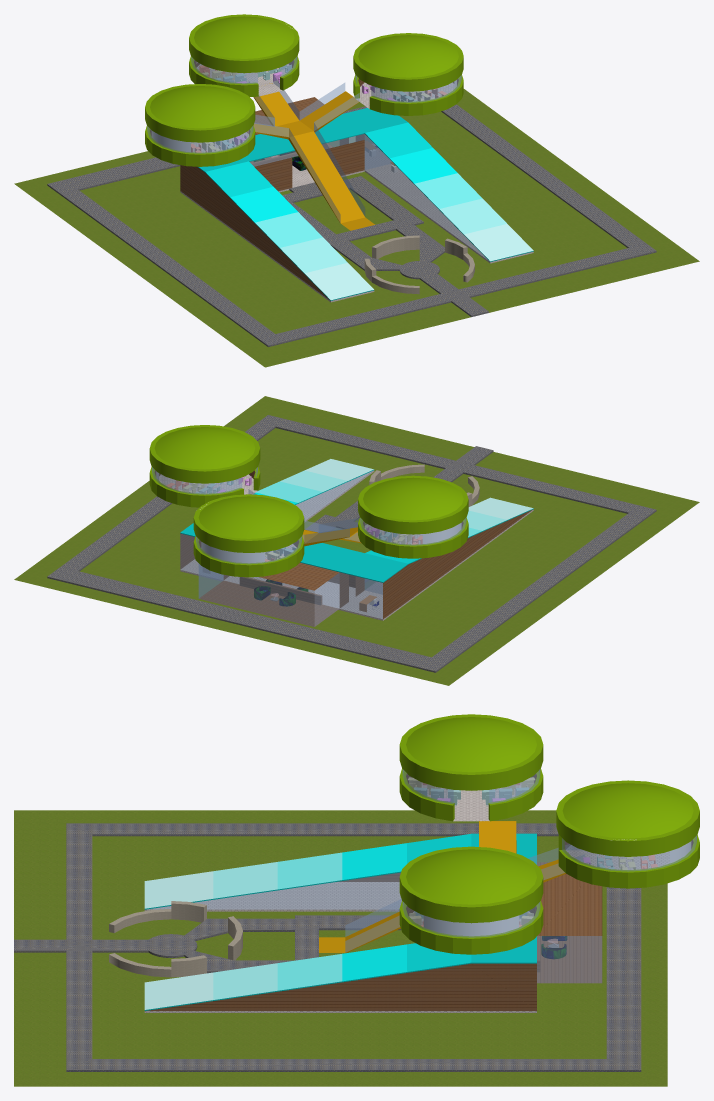
Rendered from environment.glb.
3 views of the same model, one above another, from view 1: azimuth 30°, elevation 25°; view 2: azimuth 150°, elevation 25°; view 3: azimuth 270°, elevation 25° (orthographic). The views are drawn at different scales.
Visible parts, largest first — view 1: 232213, Component#2 (×3), 234562, 234227, 232863, 232175, 232833, 232564, 234073; view 2: 232213, Component#2 (×3), 234562, 232863, 234227, 232833, 232564, 234073, 232175; view 3: 232213, Component#2 (×3), 234562, 232863, 234227, 232833, 234073, 232175, 232564.
Boxes of the visible parts, x1,y1,x2,y2 form: 232213: [14, 89, 699, 367]; Component#2 (×3): [145, 14, 463, 166]; 234562: [47, 104, 656, 346]; 234227: [197, 108, 533, 300]; 232863: [180, 97, 488, 299]; 232175: [248, 83, 374, 230]; 232833: [180, 144, 533, 302]; 232564: [249, 75, 365, 222]; 234073: [364, 235, 474, 294]; 232213: [14, 396, 699, 685]; Component#2 (×3): [149, 425, 468, 577]; 234562: [47, 415, 656, 672]; 232863: [180, 471, 532, 626]; 234227: [180, 459, 533, 582]; 232833: [180, 470, 533, 620]; 232564: [248, 489, 359, 543]; 234073: [369, 464, 479, 506]; 232175: [302, 527, 361, 546]; 232213: [14, 810, 667, 1086]; Component#2 (×3): [399, 714, 699, 954]; 234562: [14, 823, 641, 1071]; 232863: [146, 862, 602, 1010]; 234227: [144, 833, 536, 1010]; 232833: [144, 882, 536, 1012]; 234073: [109, 901, 242, 977]; 232175: [319, 821, 565, 952]; 232564: [345, 844, 584, 952].
Bounding box in the file's own units: 45.72 × 11.43 × 47.98.
Materials: 1753 (759 with a texture image).
